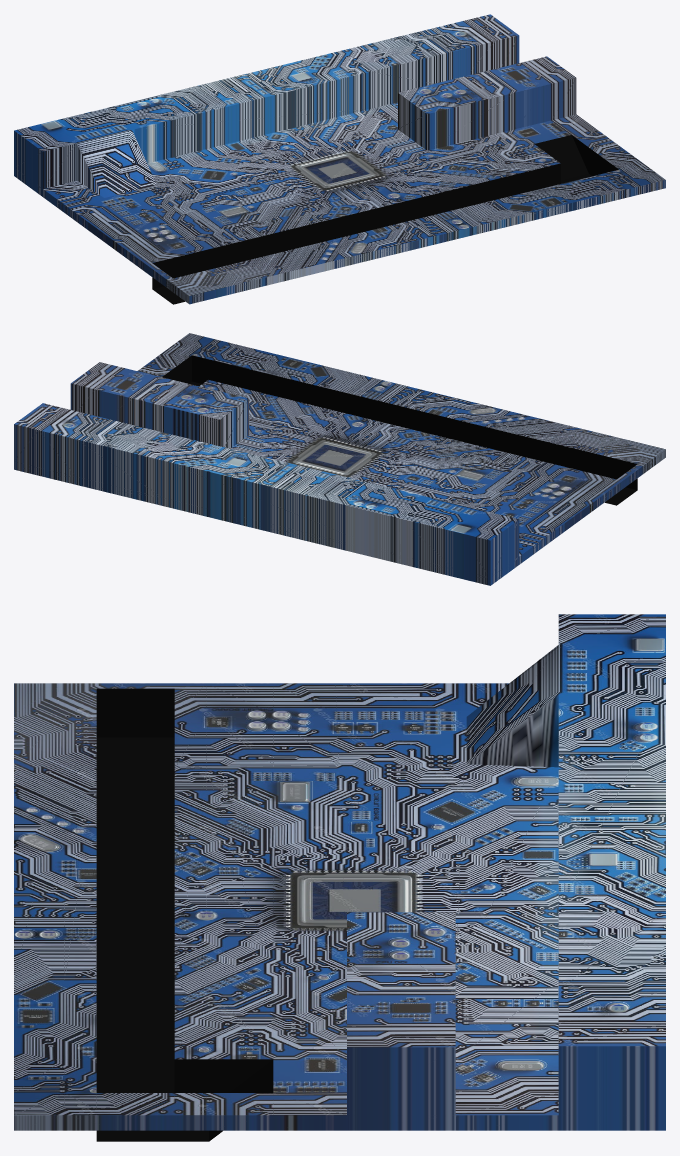
Rendered from SatBruteFloor.fbx.
3 views of the same model, one above another, from view 1: azimuth 30°, elevation 25°; view 2: azimuth 150°, elevation 25°; view 3: azimuth 270°, elevation 25° (orthographic). The views are drawn at different scales.
Parts seen in each view (by area): view 1: polySurface5; view 2: polySurface5; view 3: polySurface5.
Boxes of the visible parts, bbox=[...] form: polySurface5: bbox=[14, 14, 665, 304]; polySurface5: bbox=[14, 333, 665, 585]; polySurface5: bbox=[14, 614, 665, 1141].
Bounding box in the file's own units: 19.22 × 2.45 × 12.26.
